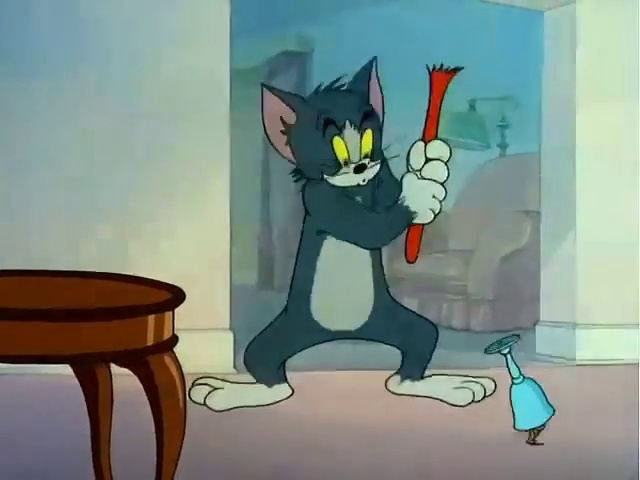tom: (197, 32, 499, 421)
